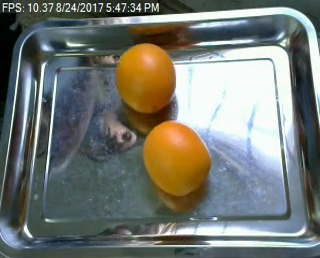Orange: (143, 119, 212, 196), (115, 43, 176, 113)
